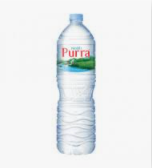Bottle: (57, 13, 95, 154)
